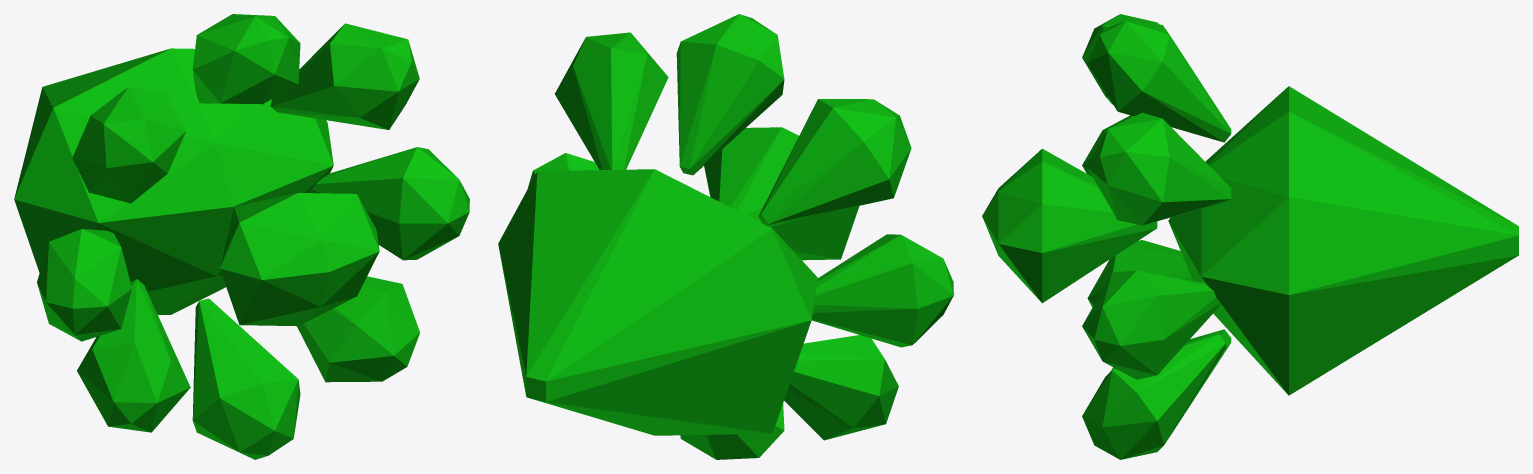
Rendered from model_3017_spotanim.obj.
3 renders of one model, left to right at view 1: azimuth 30°, elevation 25°; view 2: azimuth 150°, elevation 25°; view 3: azimuth 270°, elevation 25°, orthographic. The views are drawn at different scales.
Parts seen in each view (by area): view 1: 3017; view 2: 3017; view 3: 3017.
Part boxes in pixels (x1,y1,x2,y2): 3017: (14,14,469,459); 3017: (498,14,953,459); 3017: (982,14,1518,459).
Size of the model in its own units: 346 by 346 by 392.
